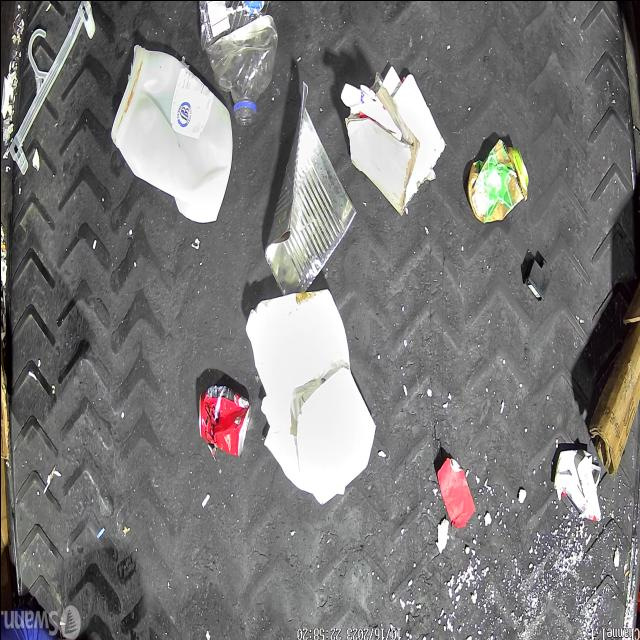can: (197, 382, 251, 456)
milk_jug: (110, 44, 233, 224)
plastic_bottle: (197, 0, 278, 128)
